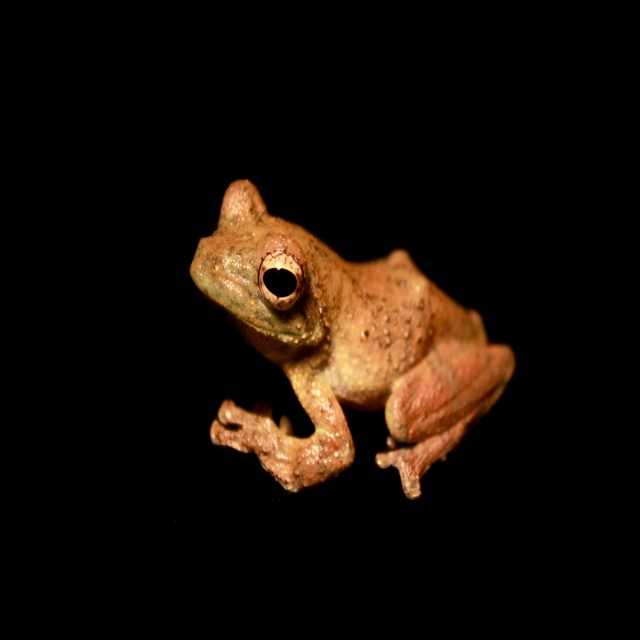Frog: (188, 177, 516, 501)
